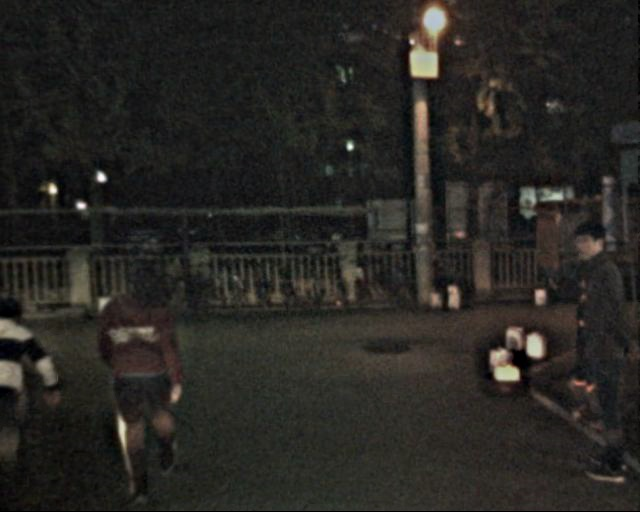person: (109, 243, 206, 493), (561, 217, 633, 475), (1, 287, 50, 491)
